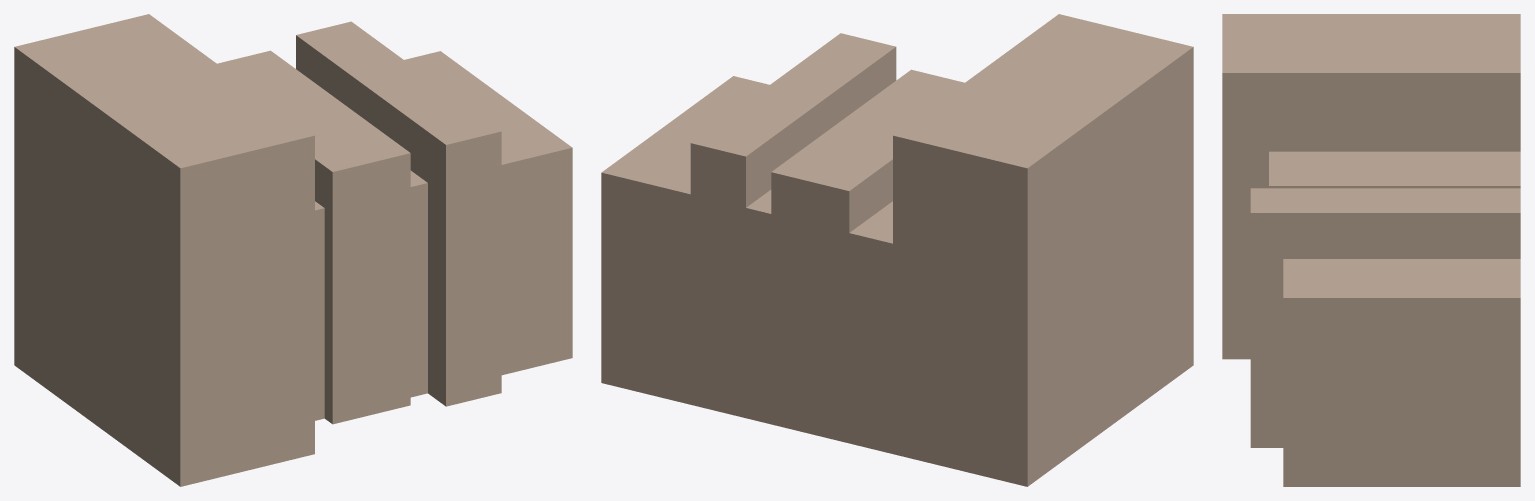
Rendered from F_bossromm_books.fbx.
3 views of the same model, side by side, from view 1: azimuth 30°, elevation 25°; view 2: azimuth 150°, elevation 25°; view 3: azimuth 270°, elevation 25° (orthographic). The views are drawn at different scales.
Parts seen in each view (by area): view 1: books; view 2: books; view 3: books.
Boxes of the visible parts, x1,y1,x2,y2 form: books: [14, 14, 572, 486]; books: [601, 14, 1193, 486]; books: [1222, 14, 1520, 486].
Size of the model in its own units: 40.17 by 28.7 by 27.11.
